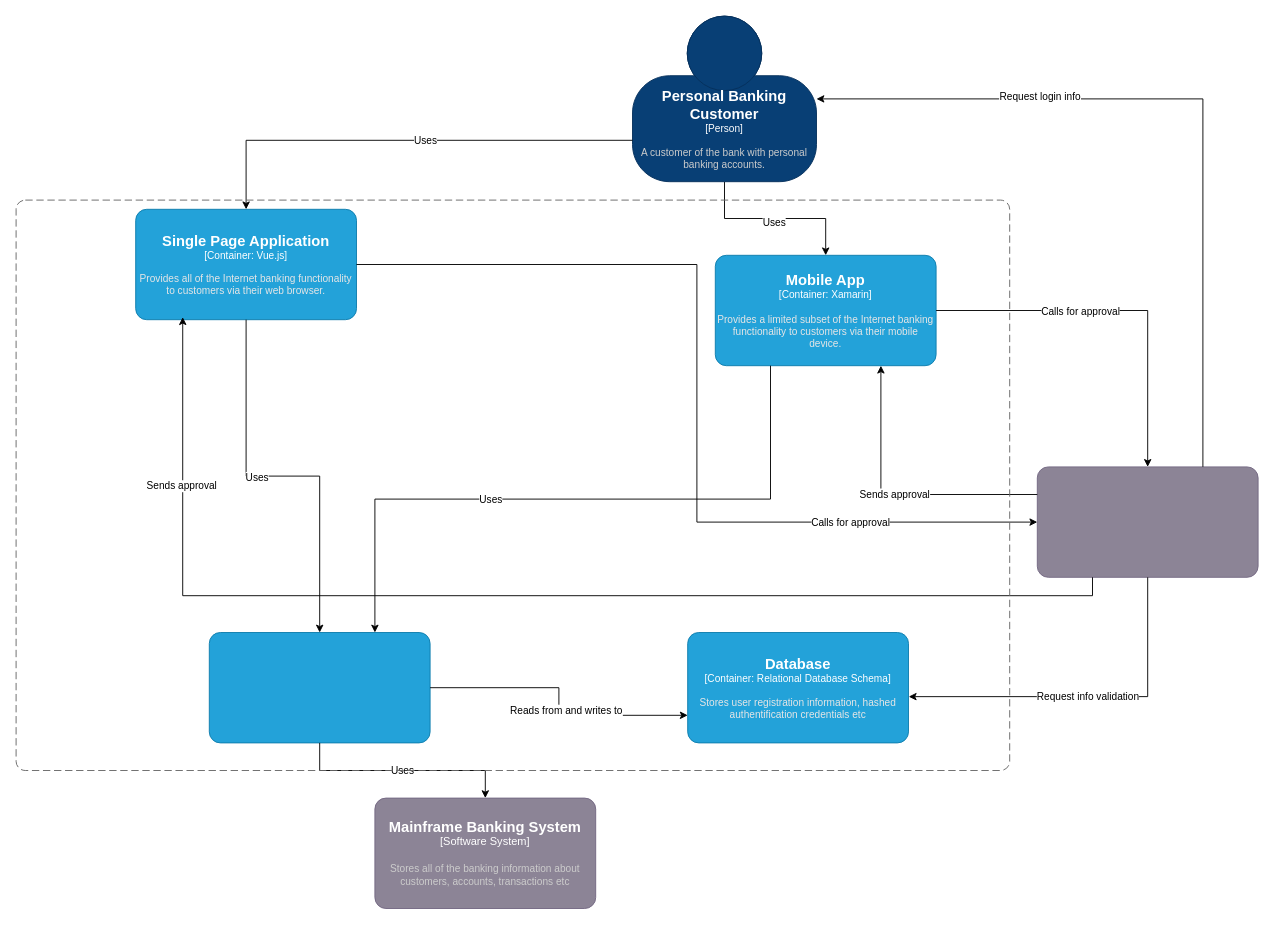
This 1274x925 diagram has some shape labels left out. The shapes that lost their labels are listed below. From the top down, each one's box as (x1, y1, x2, y2) in pixels, then its label:
(15, 199, 1010, 770): Internet Banking System [Container]
(1036, 466, 1258, 577): Login System [Software System]
(208, 632, 430, 743): API Application [Container: Java] Provited Internet banking functionality.
